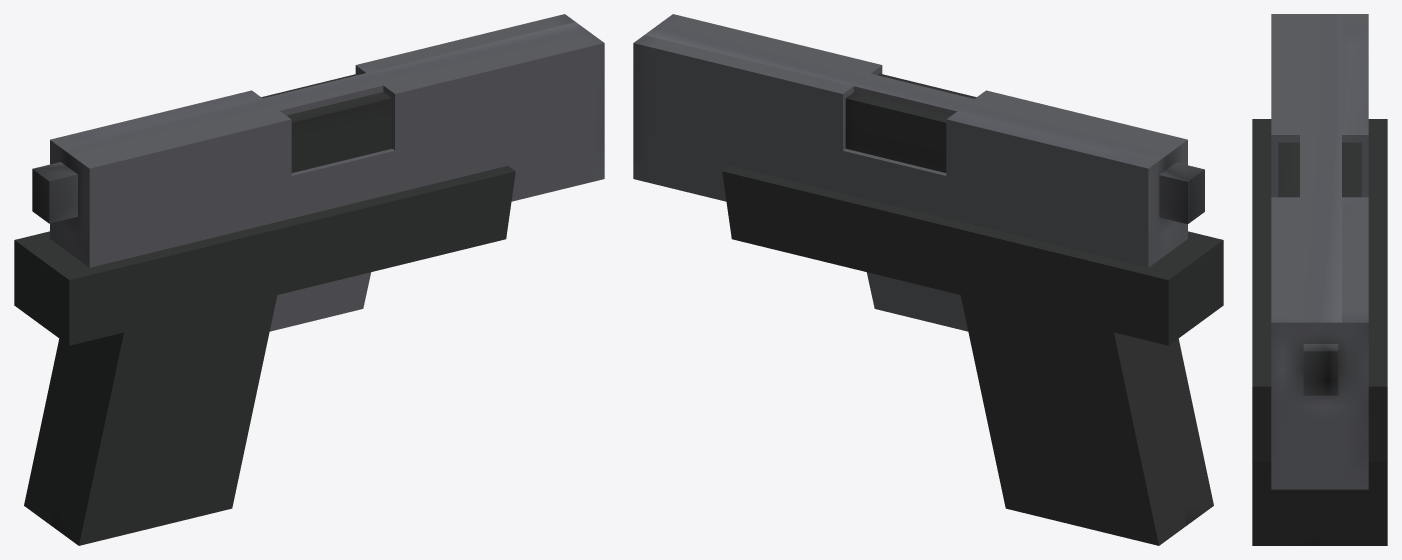
Rendered from Gun_v01.fbx.
The picture shows the model from 3 angles, left to right: view 1: azimuth 30°, elevation 25°; view 2: azimuth 150°, elevation 25°; view 3: azimuth 270°, elevation 25°; orthographic projection. The views are drawn at different scales.
Visible parts, largest first — view 1: Gun; view 2: Gun; view 3: Gun.
Part boxes in pixels (bbox=[...]): Gun: bbox=[14, 14, 604, 545]; Gun: bbox=[633, 14, 1223, 545]; Gun: bbox=[1252, 14, 1387, 545].
Bounding box in the file's own units: 61.99 × 39.16 × 10.63.
